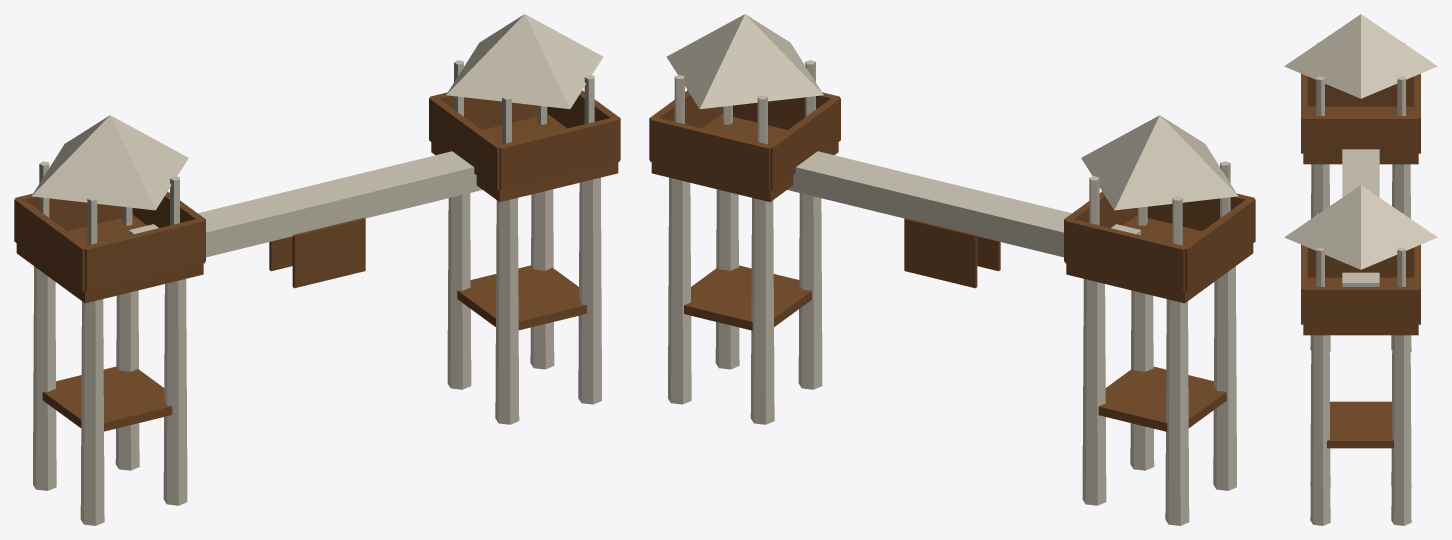
File: centaur_gate_broken.glb
3 views of the same model, side by side, from view 1: azimuth 30°, elevation 25°; view 2: azimuth 150°, elevation 25°; view 3: azimuth 270°, elevation 25° (orthographic). The views are drawn at different scales.
Parts seen in each view (by area): view 1: centaur_gate_piece2, centaur_gate_piece1, centaur_gate_piece7, centaur_gate_piece3, centaur_gate_piece8, centaur_gate_piece10, centaur_gate_piece9, centaur_gate_piece4, centaur_gate_piece13, centaur_gate_piece0, centaur_gate_piece5, centaur_gate_piece11 (+1 smaller); view 2: centaur_gate_piece2, centaur_gate_piece1, centaur_gate_piece4, centaur_gate_piece7, centaur_gate_piece0, centaur_gate_piece3, centaur_gate_piece9, centaur_gate_piece11, centaur_gate_piece13, centaur_gate_piece5, centaur_gate_piece8, centaur_gate_piece10; view 3: centaur_gate_piece2, centaur_gate_piece3, centaur_gate_piece13, centaur_gate_piece1, centaur_gate_piece7, centaur_gate_piece0, centaur_gate_piece4, centaur_gate_piece10, centaur_gate_piece8, centaur_gate_piece5.
Part boxes in pixels (x1,y1,x2,y2): centaur_gate_piece2: (14, 115, 243, 302); centaur_gate_piece1: (371, 14, 576, 267); centaur_gate_piece7: (447, 195, 601, 424); centaur_gate_piece3: (464, 25, 620, 311); centaur_gate_piece8: (66, 279, 186, 452); centaur_gate_piece10: (221, 189, 371, 288); centaur_gate_piece9: (33, 313, 187, 525); centaur_gate_piece4: (14, 194, 138, 467); centaur_gate_piece13: (518, 189, 601, 343); centaur_gate_piece0: (429, 99, 573, 210); centaur_gate_piece5: (110, 199, 256, 470); centaur_gate_piece11: (269, 170, 372, 269); centaur_gate_piece2: (1048, 115, 1255, 291); centaur_gate_piece1: (718, 14, 919, 229); centaur_gate_piece4: (1064, 232, 1208, 509); centaur_gate_piece7: (668, 218, 822, 424); centaur_gate_piece0: (649, 107, 777, 254); centaur_gate_piece3: (664, 25, 821, 267); centaur_gate_piece9: (1099, 369, 1236, 525); centaur_gate_piece11: (875, 177, 976, 288); centaur_gate_piece13: (668, 189, 738, 390); centaur_gate_piece5: (990, 214, 1108, 505); centaur_gate_piece8: (1131, 230, 1255, 398); centaur_gate_piece10: (914, 176, 1050, 287); centaur_gate_piece2: (1284, 14, 1437, 191); centaur_gate_piece3: (1300, 206, 1437, 390); centaur_gate_piece13: (1311, 364, 1411, 519); centaur_gate_piece1: (1284, 185, 1420, 338); centaur_gate_piece7: (1310, 353, 1411, 525); centaur_gate_piece0: (1354, 264, 1420, 388); centaur_gate_piece4: (1392, 74, 1420, 218); centaur_gate_piece10: (1342, 169, 1379, 197); centaur_gate_piece8: (1307, 102, 1329, 218); centaur_gate_piece5: (1360, 163, 1411, 351).
Size of the model in its own units: 4.83 by 3.05 by 1.33.
